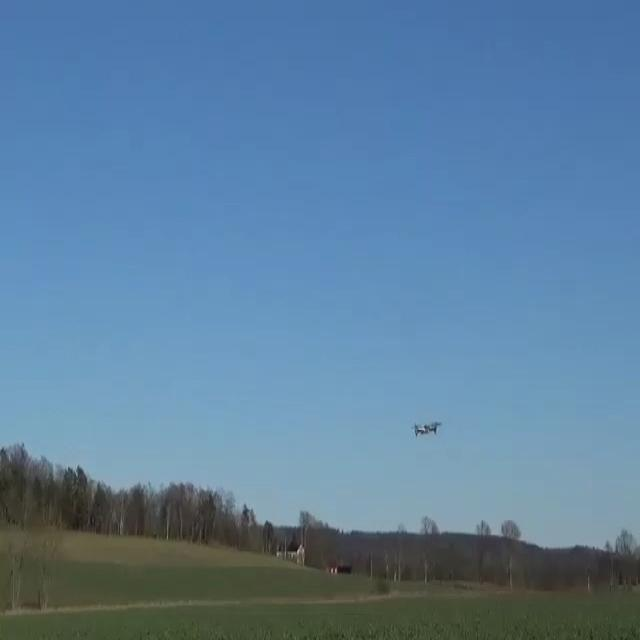drone: (414, 421, 442, 438)
